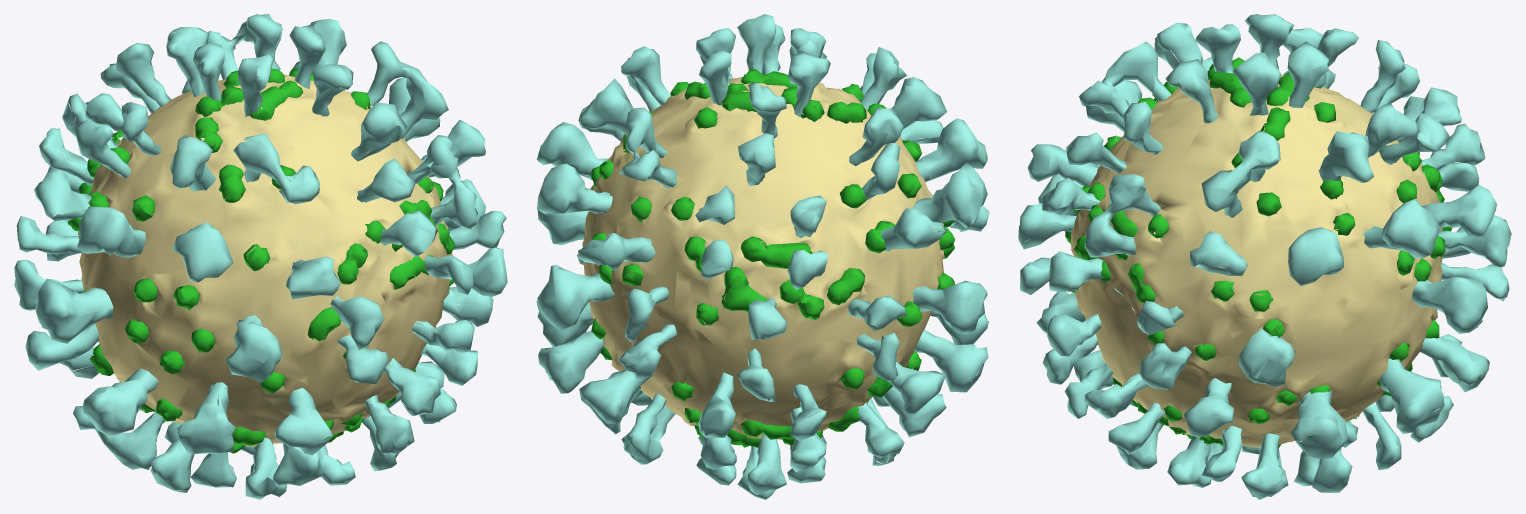
Rendered from virus_c.glb.
3 renders of one model, left to right at view 1: azimuth 30°, elevation 25°; view 2: azimuth 150°, elevation 25°; view 3: azimuth 270°, elevation 25°, orthographic. The views are drawn at different scales.
Visible parts, largest first — view 1: legs, body, joint; view 2: legs, body, joint; view 3: legs, body, joint.
Part boxes in pixels (x1,y1,x2,y2): legs: (14, 14, 507, 499); body: (78, 74, 452, 446); joint: (67, 66, 455, 453); legs: (536, 14, 989, 499); body: (582, 77, 944, 439); joint: (590, 69, 955, 447); legs: (1018, 14, 1511, 499); body: (1070, 75, 1446, 447); joint: (1065, 57, 1452, 448).
Bounding box in the file's own units: 2.82 × 2.71 × 2.73.
